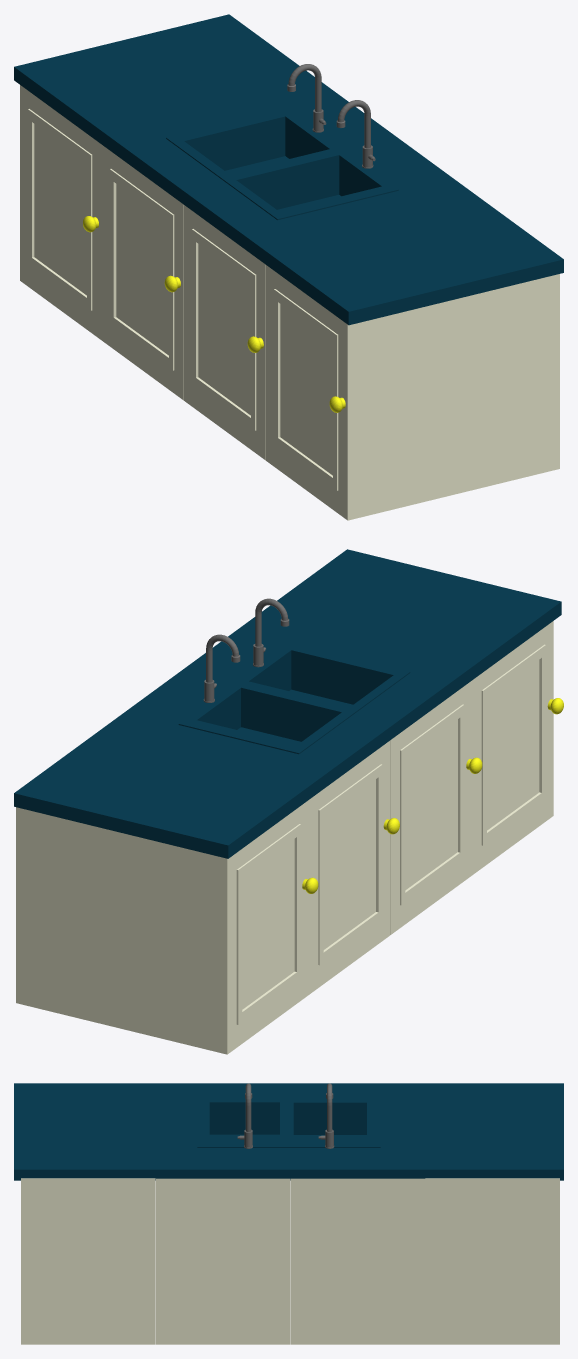
The model's file is mixer.obj.
The picture shows the model from 3 angles, top to bottom: view 1: azimuth 30°, elevation 25°; view 2: azimuth 150°, elevation 25°; view 3: azimuth 270°, elevation 25°; orthographic projection. The views are drawn at different scales.
Parts seen in each view (by area): view 1: tapa.001_Cube.001, caja_4.001_Cube.002, caja_2.001_Cube.011, caja_3.001_Cube.003, caja_1.001_Cube.013, grifo_2_Cylinder.009, grifo_1_Cylinder.006; view 2: tapa.001_Cube.001, caja_1.001_Cube.013, caja_3.001_Cube.003, caja_4.001_Cube.002, caja_2.001_Cube.011, grifo_1_Cylinder.006, grifo_2_Cylinder.009; view 3: tapa.001_Cube.001, caja_2.001_Cube.011, caja_1.001_Cube.013, caja_4.001_Cube.002, caja_3.001_Cube.003, grifo_2_Cylinder.009, grifo_1_Cylinder.006.
Part boxes in pixels (left/top/right/bottom): tapa.001_Cube.001: left=14, top=14, right=563, bottom=325; caja_4.001_Cube.002: left=266, top=265, right=559, bottom=520; caja_2.001_Cube.011: left=101, top=145, right=183, bottom=400; caja_3.001_Cube.003: left=184, top=205, right=265, bottom=460; caja_1.001_Cube.013: left=20, top=85, right=101, bottom=339; grifo_2_Cylinder.009: left=336, top=100, right=373, bottom=168; grifo_1_Cylinder.006: left=287, top=64, right=323, bottom=132; tapa.001_Cube.001: left=14, top=549, right=561, bottom=858; caja_1.001_Cube.013: left=16, top=800, right=308, bottom=1054; caja_3.001_Cube.003: left=390, top=680, right=472, bottom=934; caja_4.001_Cube.002: left=472, top=621, right=553, bottom=874; caja_2.001_Cube.011: left=309, top=740, right=390, bottom=994; grifo_1_Cylinder.006: left=203, top=634, right=240, bottom=702; grifo_2_Cylinder.009: left=253, top=598, right=289, bottom=667; tapa.001_Cube.001: left=14, top=1083, right=563, bottom=1180; caja_2.001_Cube.011: left=290, top=1178, right=425, bottom=1344; caja_1.001_Cube.013: left=425, top=1178, right=559, bottom=1344; caja_4.001_Cube.002: left=21, top=1178, right=155, bottom=1344; caja_3.001_Cube.003: left=156, top=1178, right=290, bottom=1344; grifo_2_Cylinder.009: left=244, top=1083, right=252, bottom=1148; grifo_1_Cylinder.006: left=325, top=1083, right=334, bottom=1148.
Size of the model in its own units: 3.46 by 4.16 by 8.9.
Materials: 4 (4 with a texture image).
